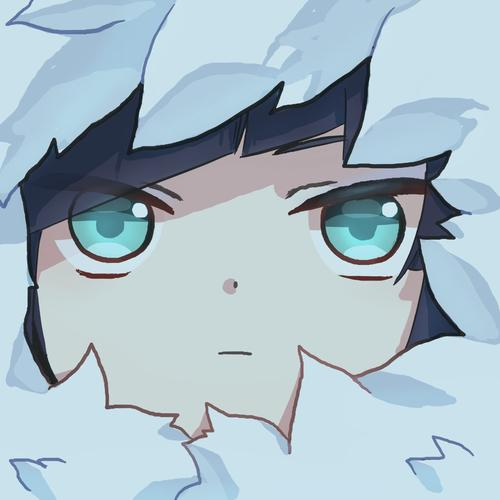夜兰: (1, 1, 500, 500)
